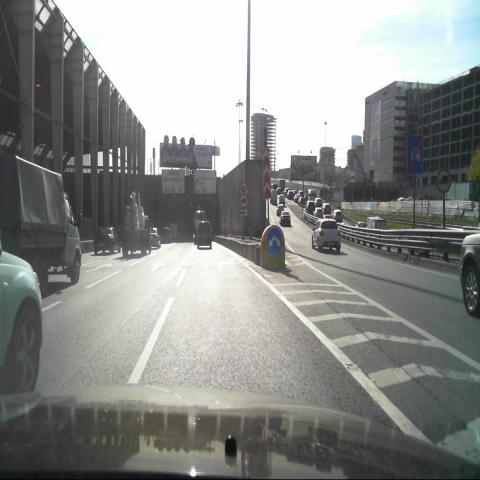3_4_1: (438, 167, 451, 193)
4_2_3: (267, 227, 282, 258)
5_4: (407, 135, 423, 174)
